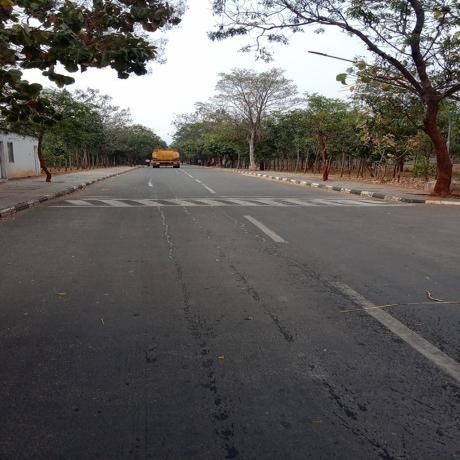Speed Bump: (43, 194, 420, 206)
